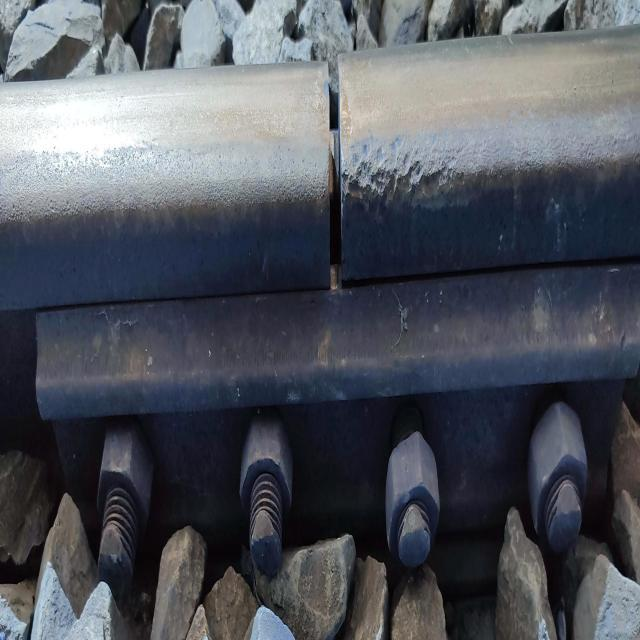Good Joint: (36, 264, 640, 599)
